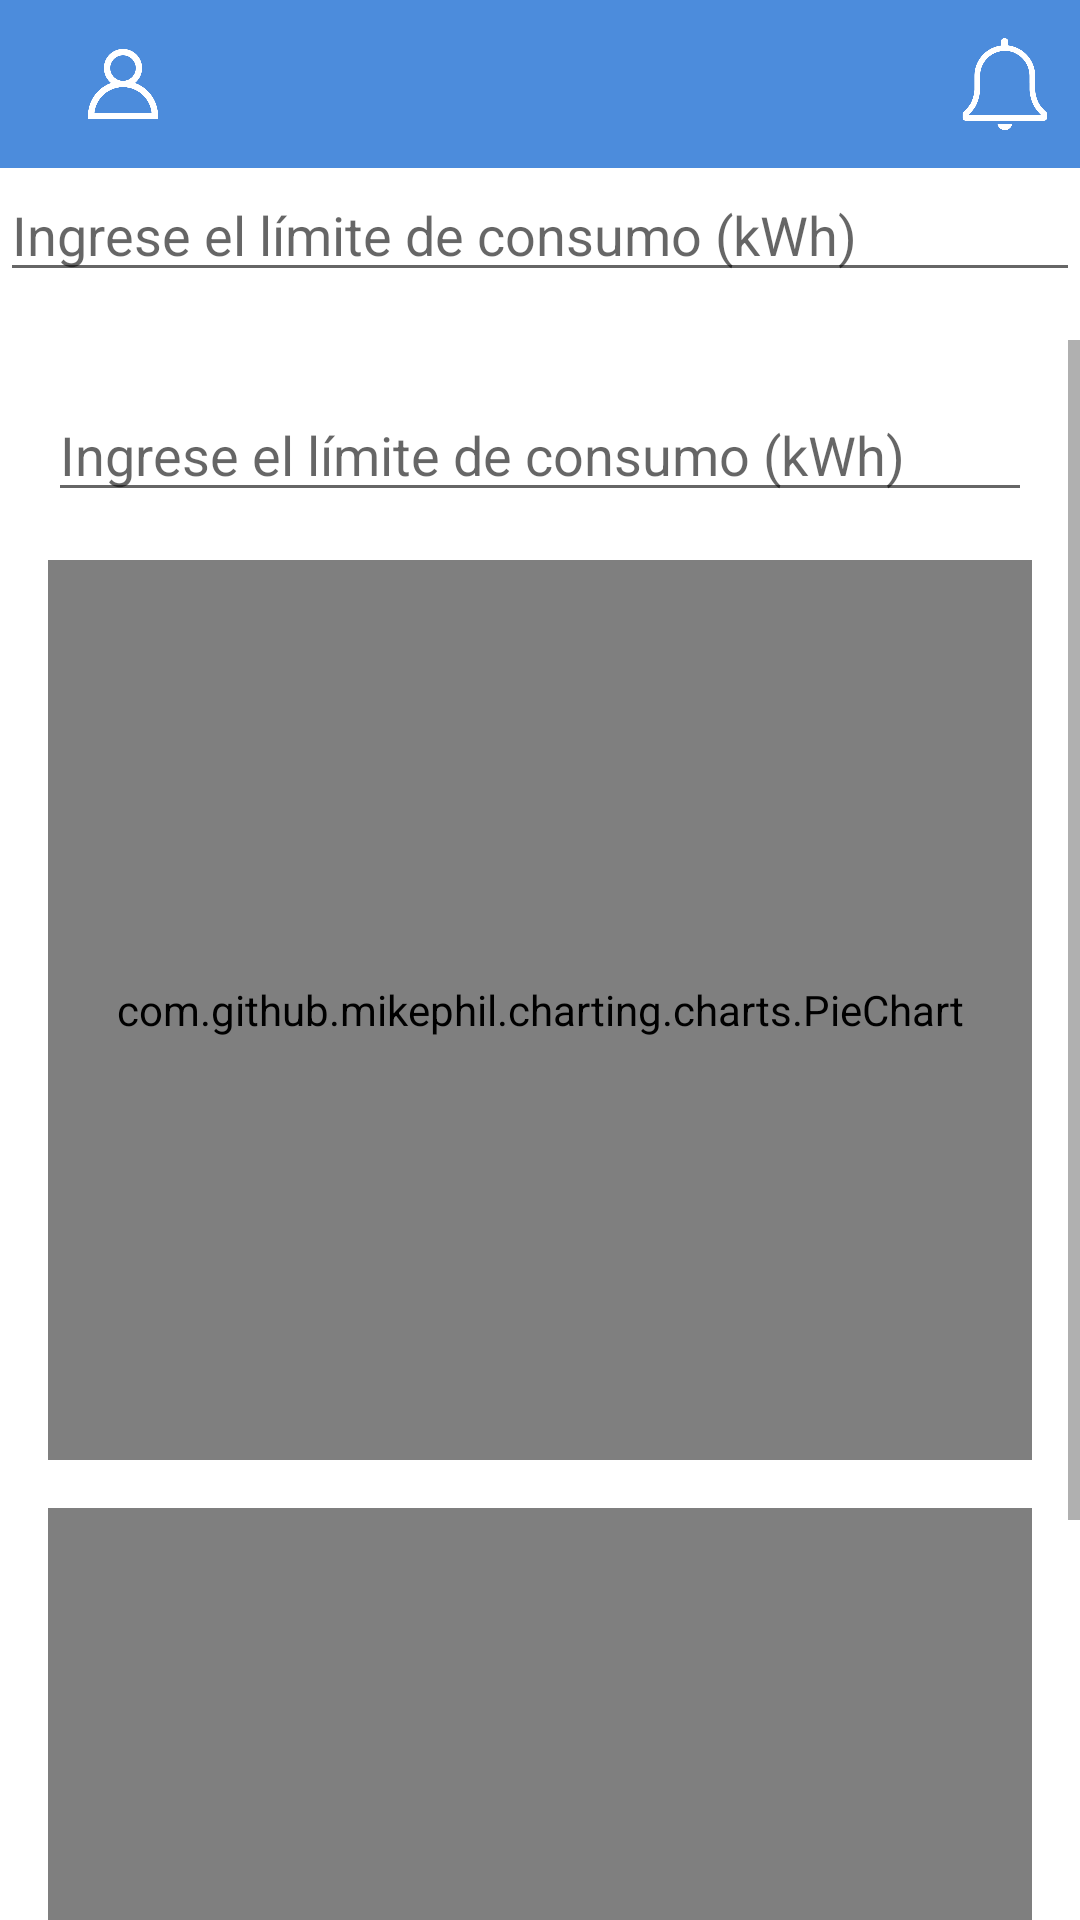

Screen size 1080 × 1920. Icon name, then its center in pixels as [x,y]:
Notification Icon: [1005,84]
User Icon: [123,84]
